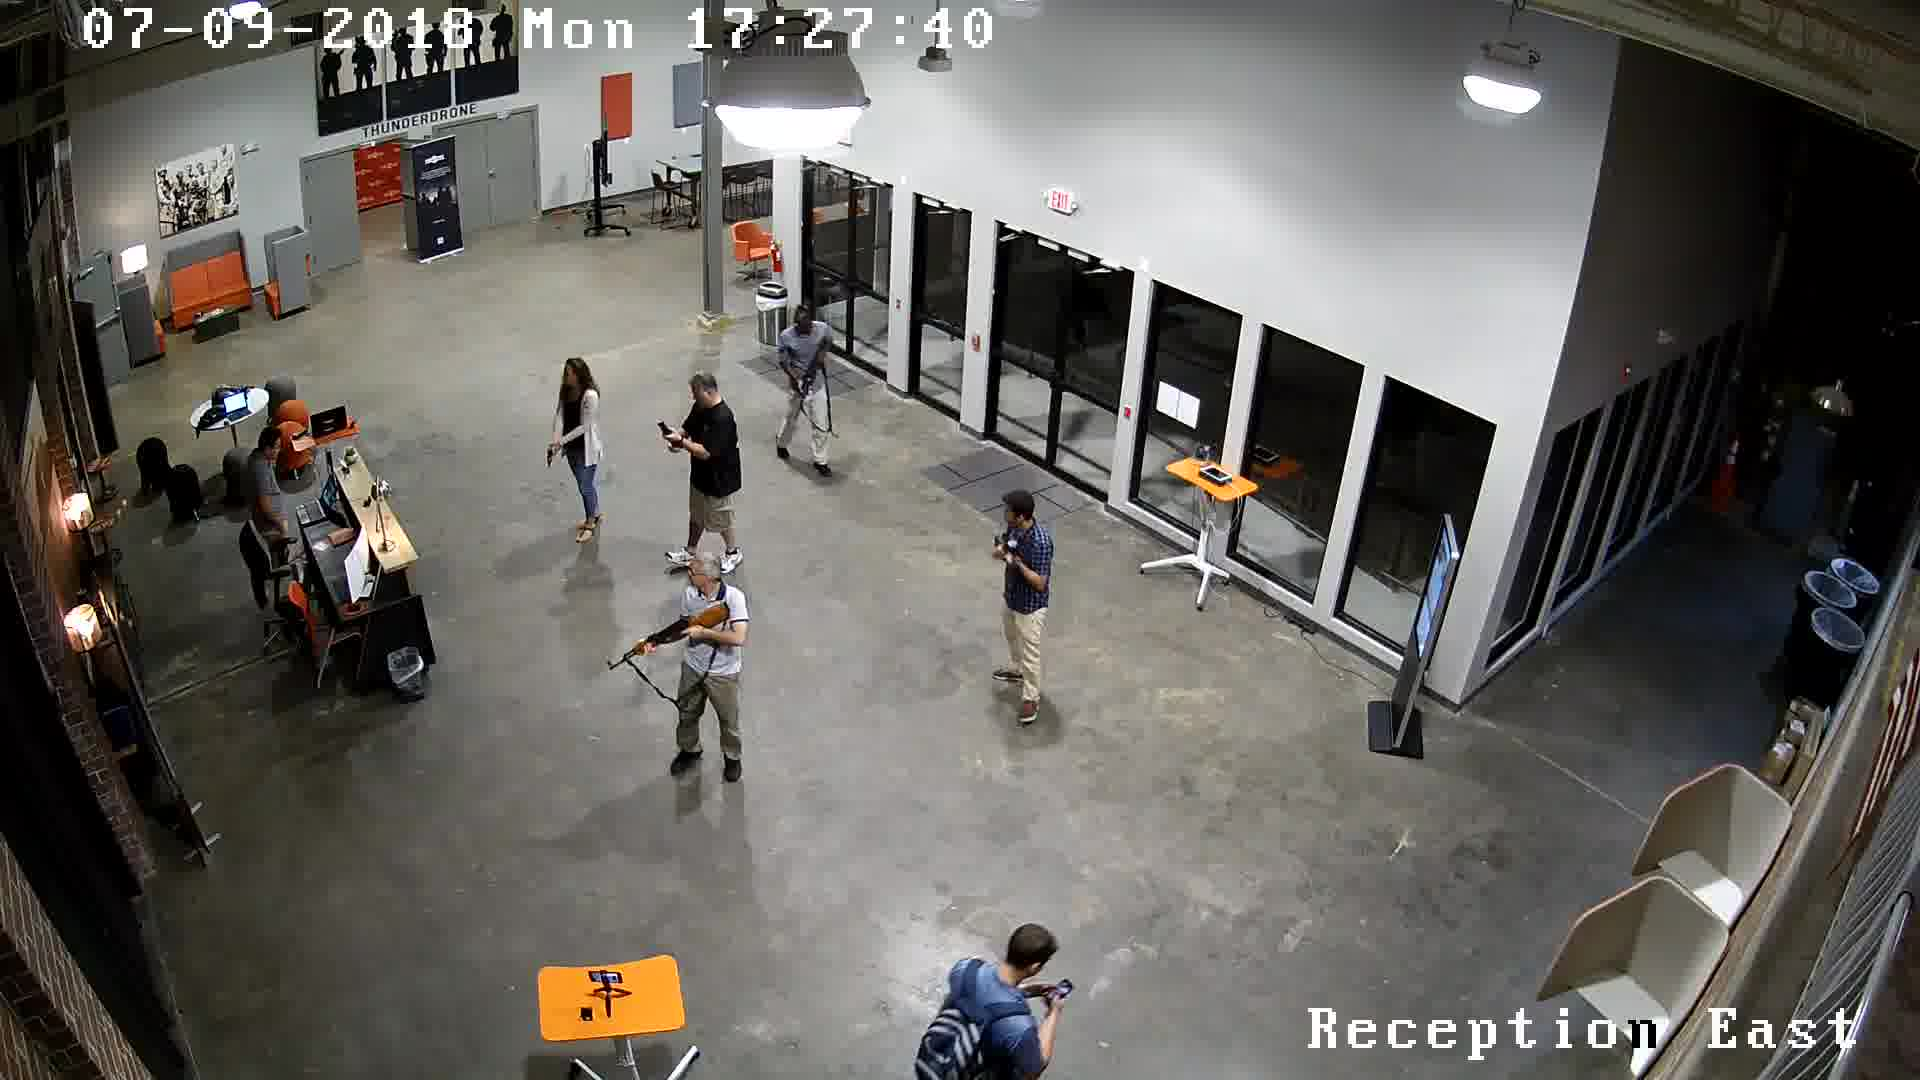pistol: (531, 436, 567, 477)
